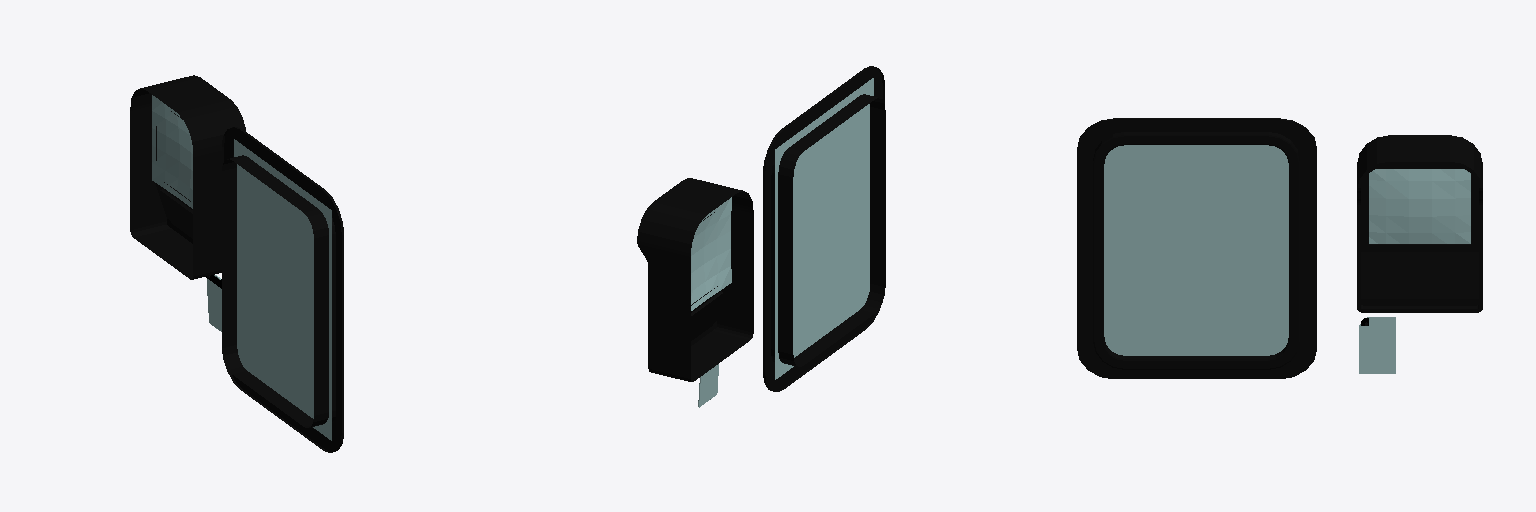
Rendered from Terminal_Window_Phone_Group.obj.
3 views of the same model, side by side, from view 1: azimuth 30°, elevation 25°; view 2: azimuth 150°, elevation 25°; view 3: azimuth 270°, elevation 25° (orthographic).
Parts seen in each view (by area): view 1: Window_Cube.002, Terminal_Plane.002, Phone_Cube; view 2: Window_Cube.002, Terminal_Plane.002, Phone_Cube; view 3: Window_Cube.002, Terminal_Plane.002, Phone_Cube.
Boxes of the visible parts, box(x1,y1,x2,y2) form: Window_Cube.002: box(222, 127, 343, 452); Terminal_Plane.002: box(130, 75, 245, 279); Phone_Cube: box(206, 275, 221, 331); Window_Cube.002: box(763, 66, 885, 391); Terminal_Plane.002: box(637, 178, 753, 381); Phone_Cube: box(698, 364, 718, 407); Window_Cube.002: box(1077, 118, 1316, 378); Terminal_Plane.002: box(1357, 135, 1482, 312); Phone_Cube: box(1359, 317, 1395, 373).
Bounding box in the file's own units: 2.83 × 11.8 × 16.71.